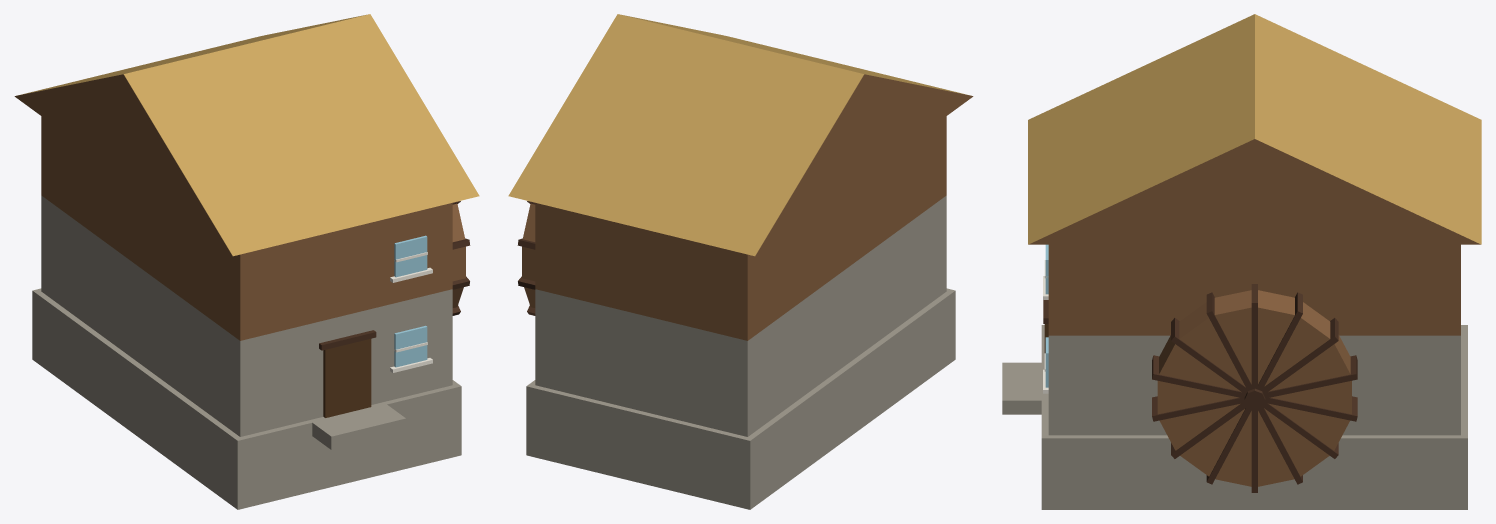
Rendered from old_mill.glb.
The picture shows the model from 3 angles, left to right: view 1: azimuth 30°, elevation 25°; view 2: azimuth 150°, elevation 25°; view 3: azimuth 270°, elevation 25°; orthographic projection. The views are drawn at different scales.
Parts seen in each view (by area): view 1: old_mill-col; view 2: old_mill-col; view 3: old_mill-col.
Boxes of the visible parts, x1,y1,x2,y2 form: old_mill-col: (14,14,479,509); old_mill-col: (508,14,973,509); old_mill-col: (1002,14,1481,509).
Bounding box in the file's own units: 10.5 × 12.1 × 13.95.
